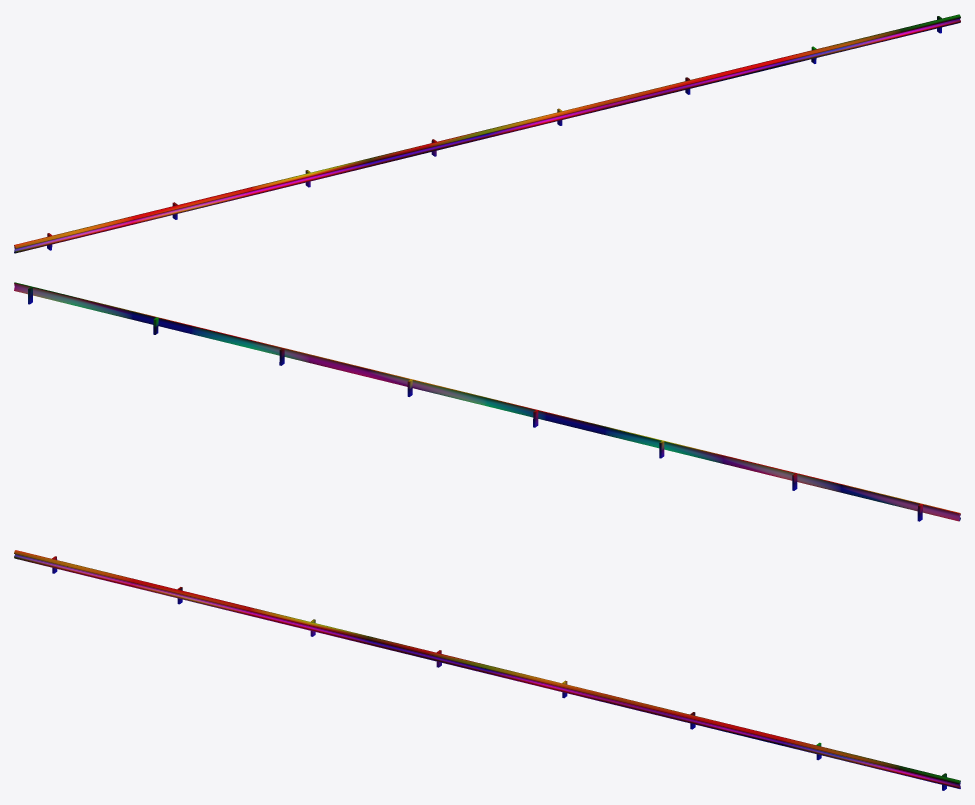
File: RoadBarrier01_demo.fbx
3 renders of one model, top to bottom at view 1: azimuth 30°, elevation 25°; view 2: azimuth 150°, elevation 25°; view 3: azimuth 330°, elevation 25°, orthographic.
Parts seen in each view (by area): view 1: RoadBarrier01_demo; view 2: RoadBarrier01_demo; view 3: RoadBarrier01_demo.
Part boxes in pixels (x1=…): RoadBarrier01_demo: x1=14, y1=14, x2=960, y2=253; RoadBarrier01_demo: x1=14, y1=282, x2=960, y2=521; RoadBarrier01_demo: x1=14, y1=550, x2=960, y2=790.
Bounding box in the file's own units: 5216 × 79.52 × 47.7.
